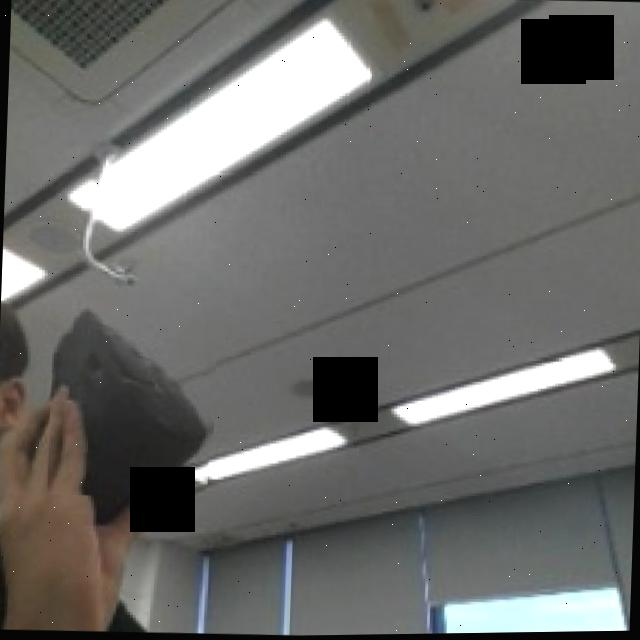shoe: (46, 299, 220, 499)
